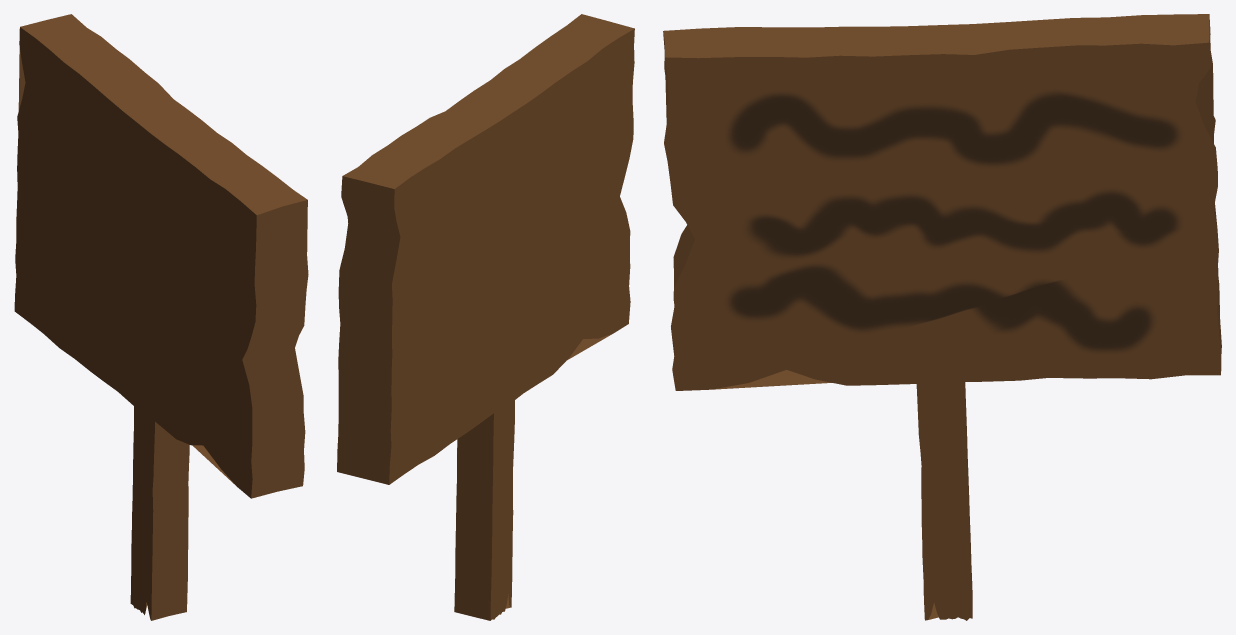
The model's file is Sign.fbx.
3 views of the same model, side by side, from view 1: azimuth 30°, elevation 25°; view 2: azimuth 150°, elevation 25°; view 3: azimuth 270°, elevation 25° (orthographic). The views are drawn at different scales.
Parts seen in each view (by area): view 1: Cube, Cube.001; view 2: Cube, Cube.001; view 3: Cube, Cube.001.
Part boxes in pixels (x1,y1,x2,y2): Cube: [14, 14, 308, 498]; Cube.001: [130, 406, 189, 620]; Cube: [337, 14, 634, 484]; Cube.001: [454, 400, 514, 620]; Cube: [663, 14, 1221, 390]; Cube.001: [916, 382, 972, 620].
Size of the model in its own units: 38.82 by 350 by 304.
